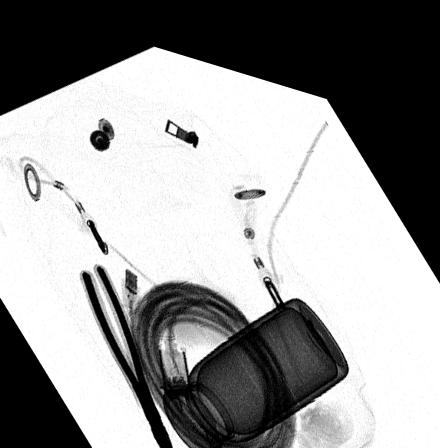Pliers: (80, 256, 173, 448)
